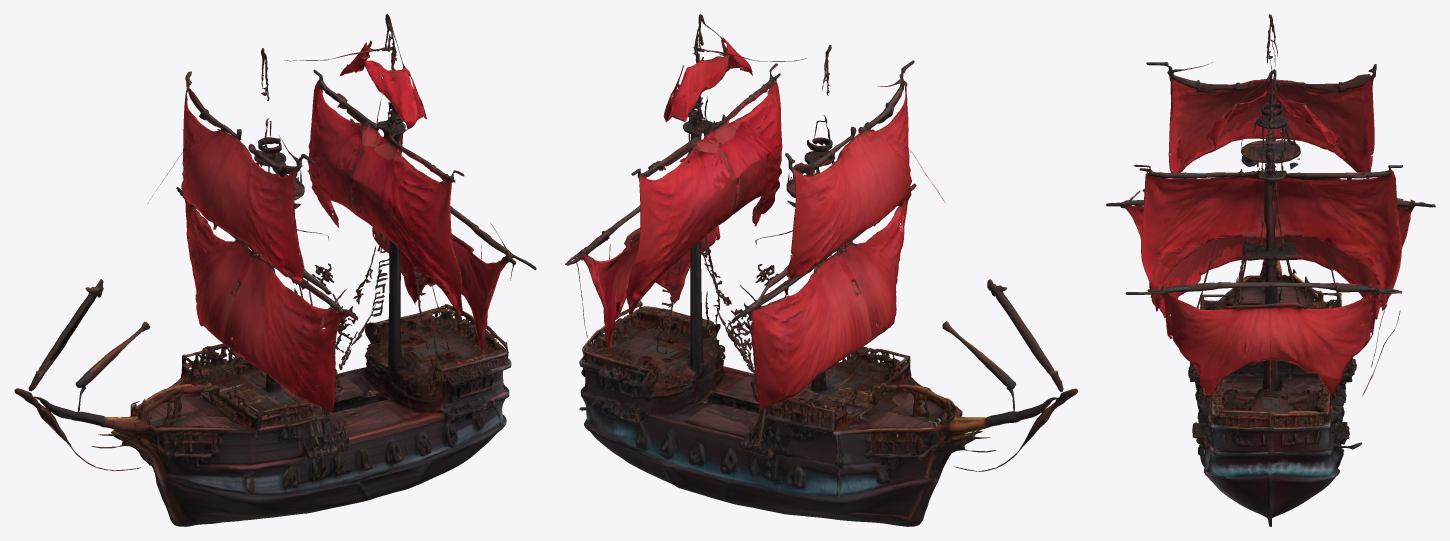
File: galleon.glb
3 views of the same model, side by side, from view 1: azimuth 30°, elevation 25°; view 2: azimuth 150°, elevation 25°; view 3: azimuth 270°, elevation 25° (orthographic). The views are drawn at different scales.
Bounding box in the file's own units: 2 × 1.88 × 1.33.
Materials: 1 (1 with a texture image).
